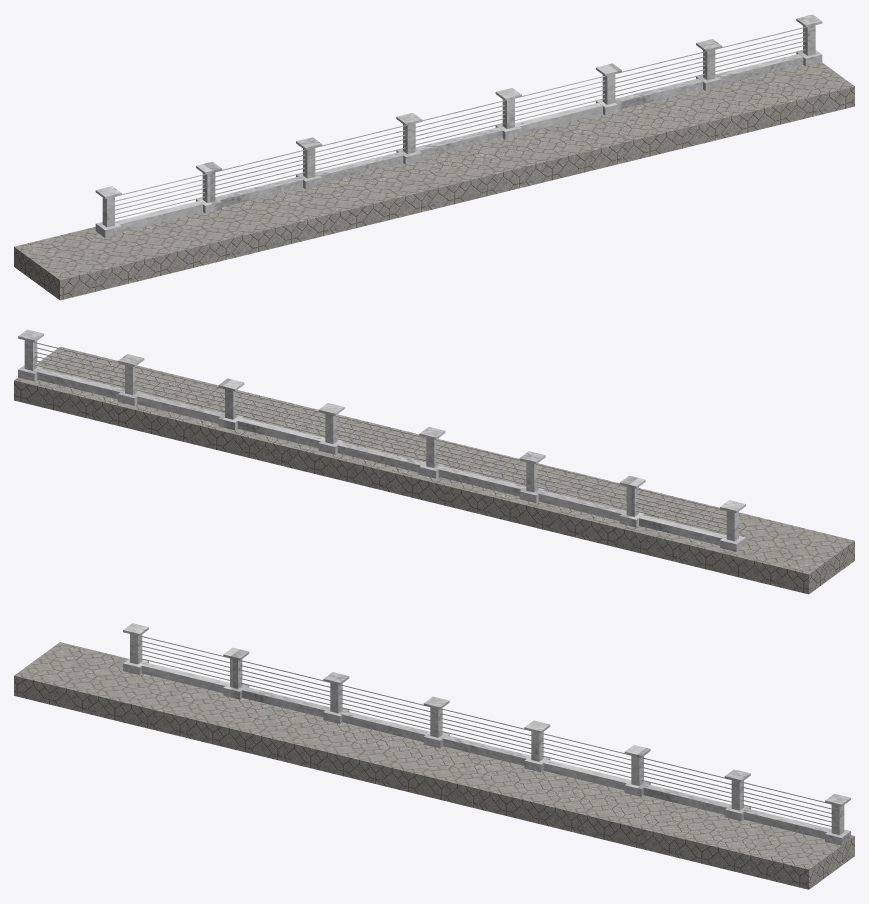
File: Raotrai.fbx
3 renders of one model, top to bottom at view 1: azimuth 30°, elevation 25°; view 2: azimuth 150°, elevation 25°; view 3: azimuth 330°, elevation 25°, orthographic.
Visible parts, largest first — view 1: Group1; view 2: Group1; view 3: Group1.
Part boxes in pixels (left/top/right/bottom): Group1: left=14, top=14, right=854, bottom=300; Group1: left=14, top=329, right=854, bottom=594; Group1: left=14, top=623, right=854, bottom=889.
Size of the model in its own units: 36245 by 2670 by 3634.
